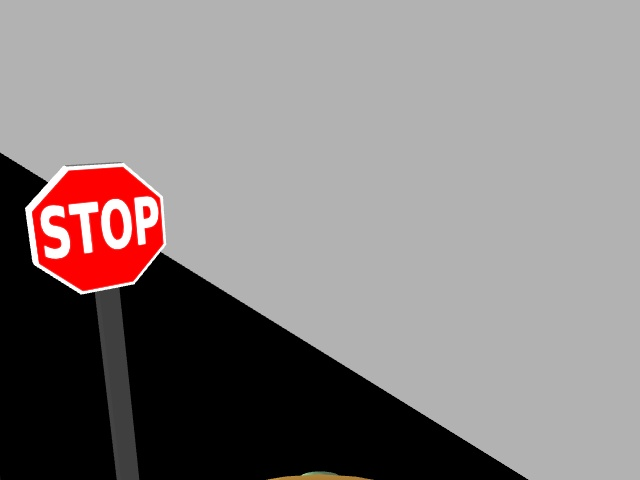Stop: (16, 153, 179, 304)
